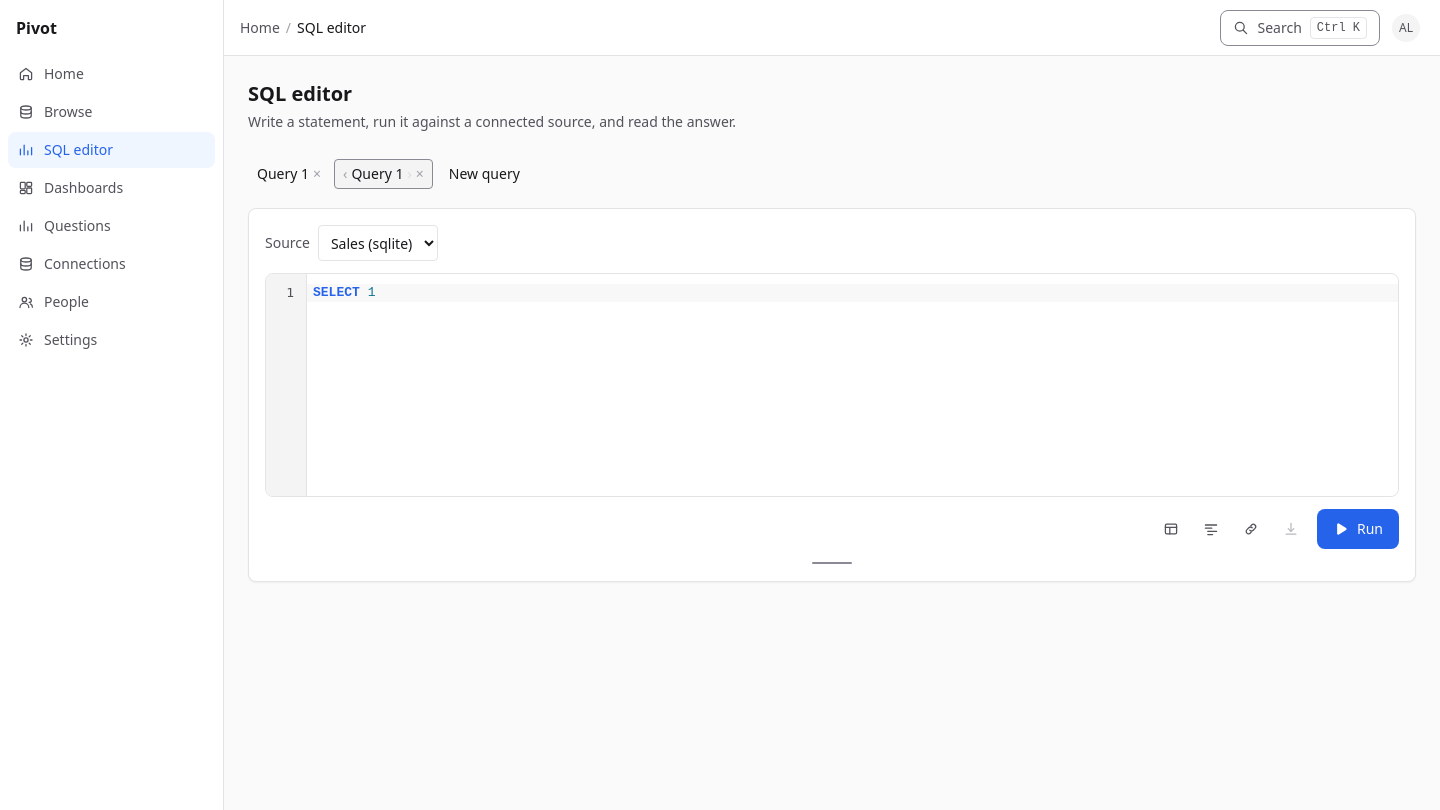
Scenario: running a statement › says when the answer came from cache
Click the button "Run": {"x": 1358, "y": 529} [1317,509,1399,549]
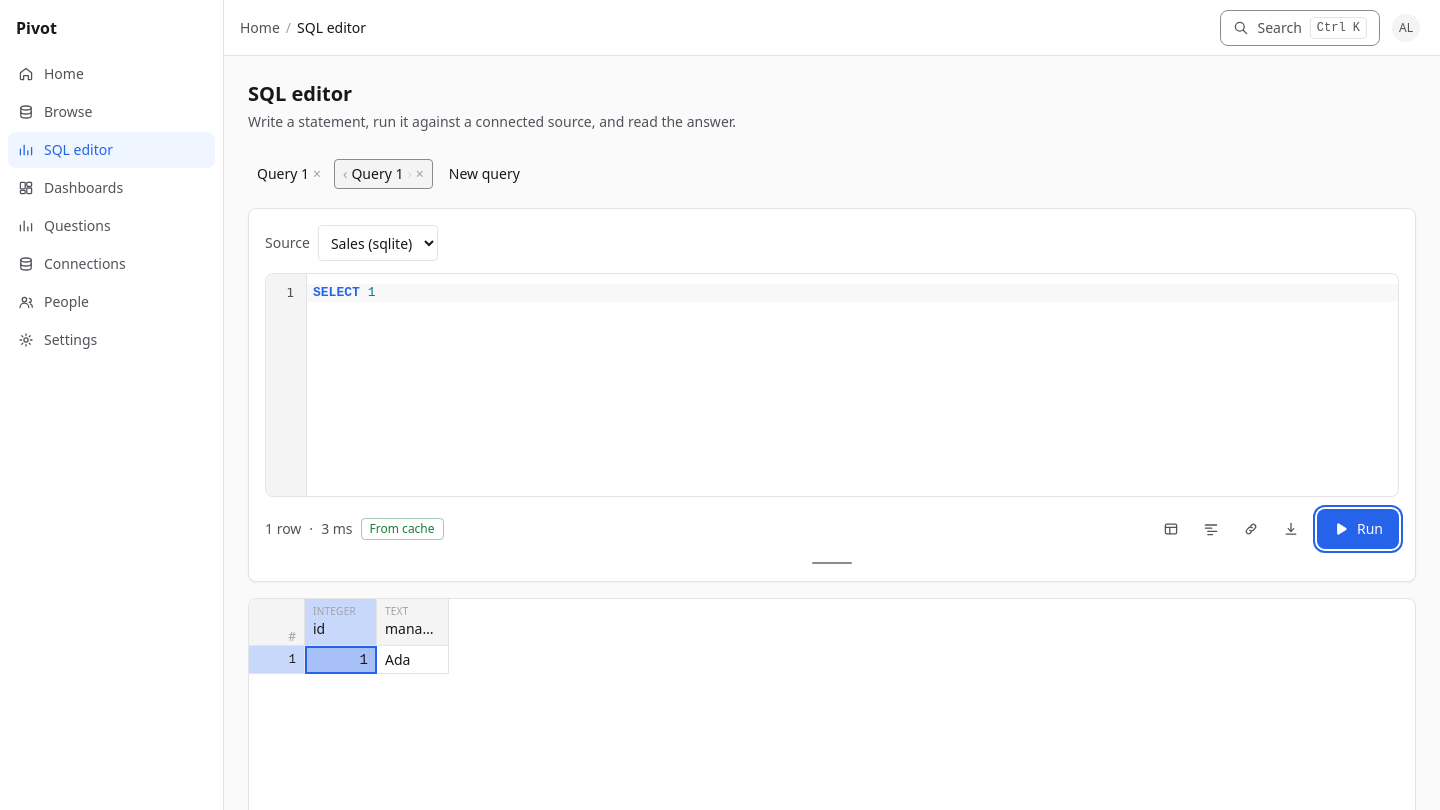
Now the text "From cache" is shown, box [361,518,444,540]
